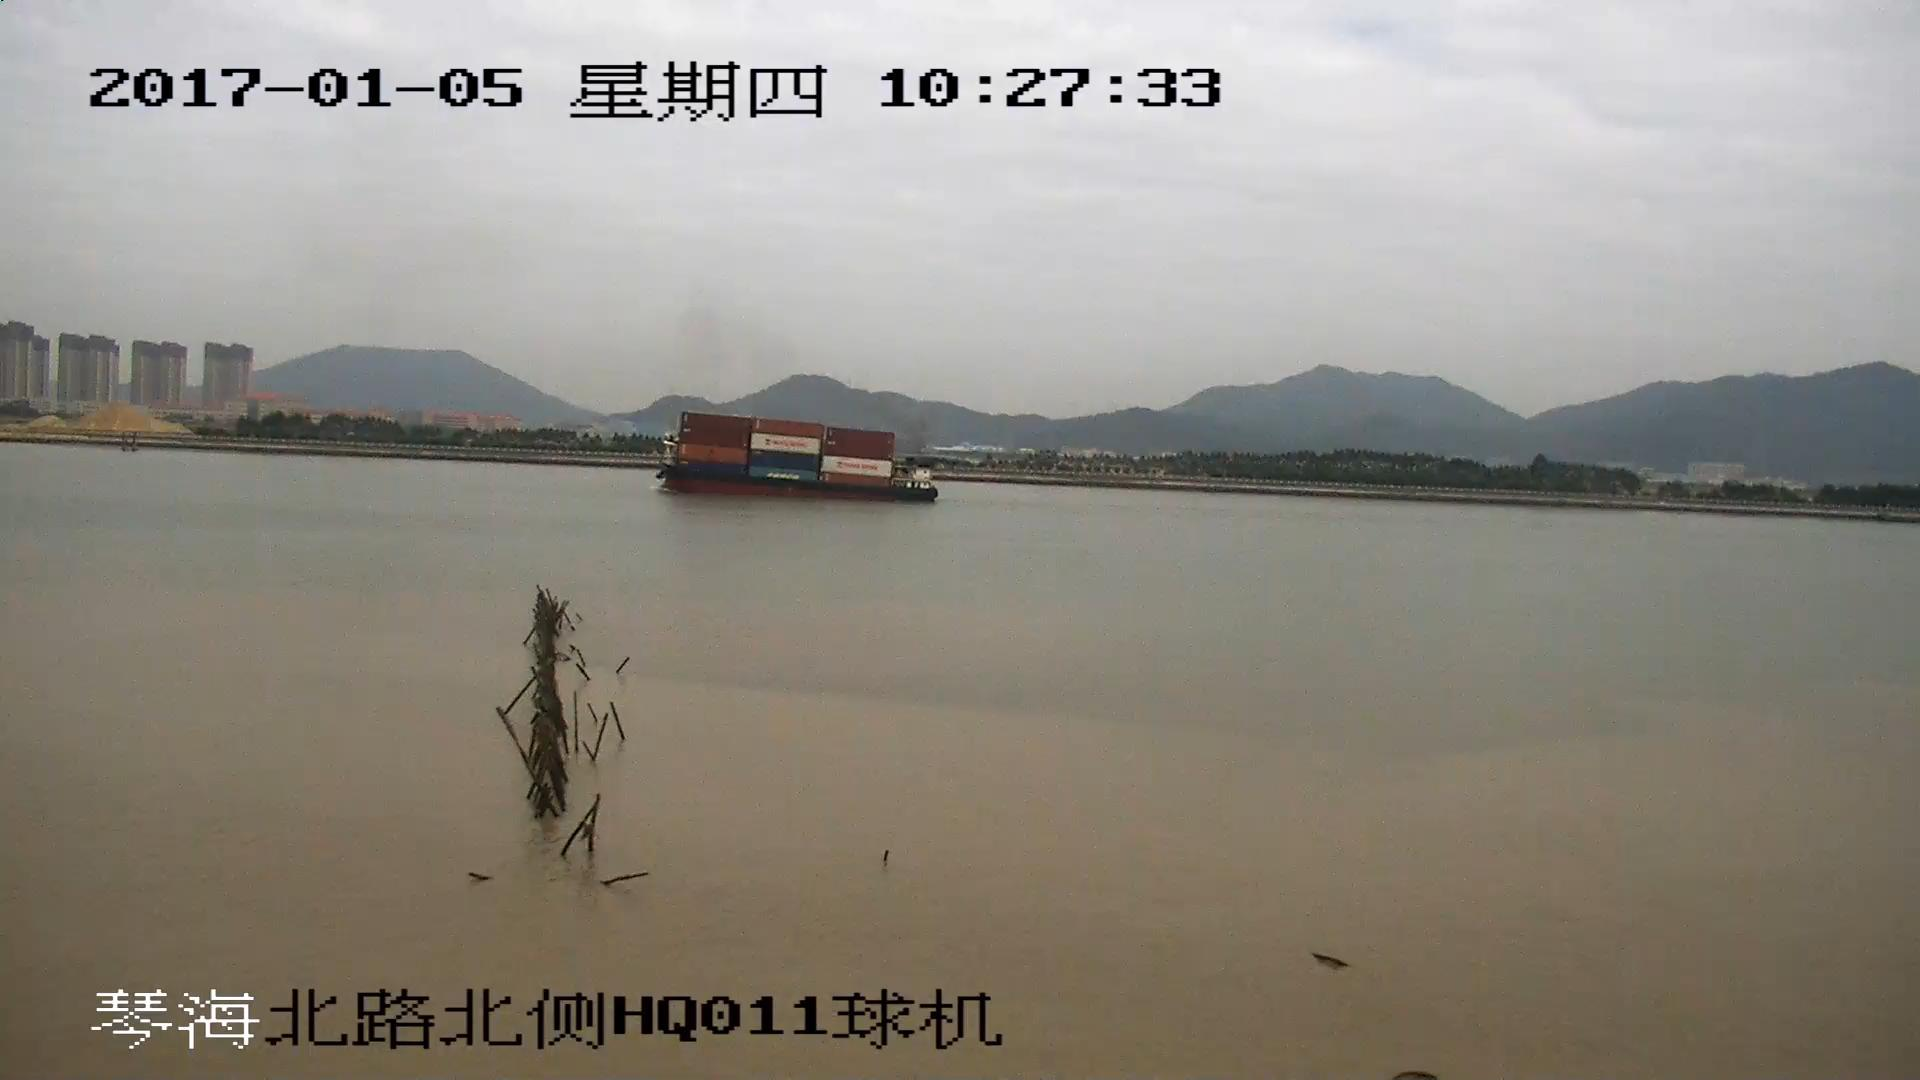Ship: (651, 415, 938, 509)
